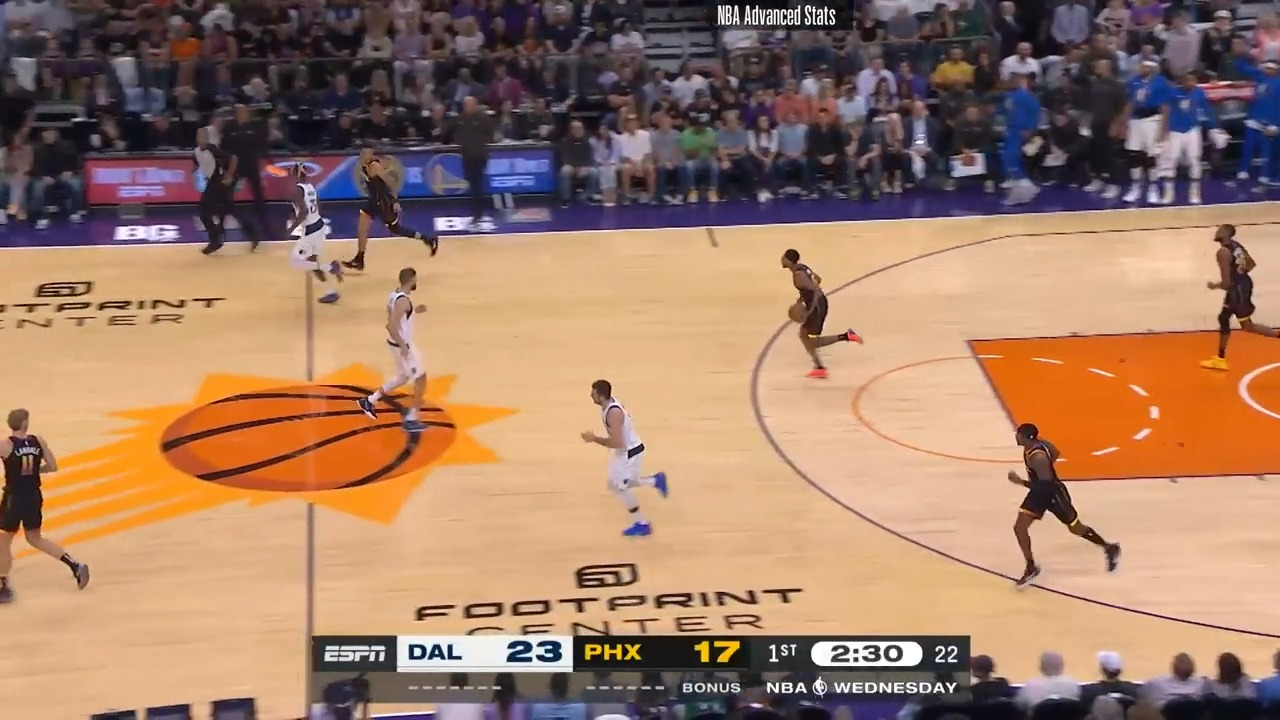player: (1001, 423, 1122, 593), (359, 264, 462, 453), (0, 403, 90, 609), (576, 373, 669, 541), (329, 141, 446, 267), (771, 248, 870, 382), (270, 161, 345, 308)
referee: (1203, 224, 1280, 378), (180, 125, 259, 262)
